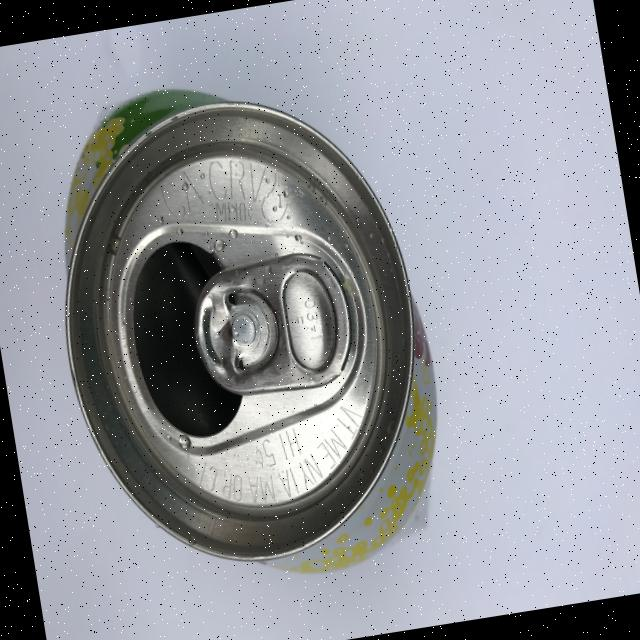metal: (29, 57, 462, 602)
